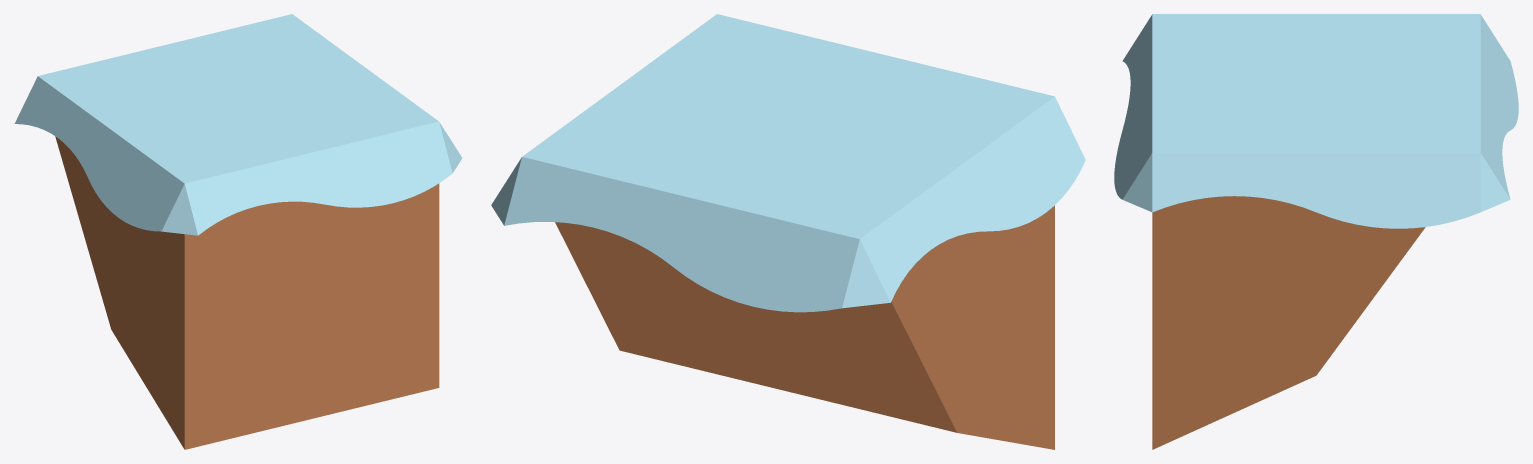
The model's file is blockSnowCliff.glb.
3 renders of one model, left to right at view 1: azimuth 30°, elevation 25°; view 2: azimuth 150°, elevation 25°; view 3: azimuth 270°, elevation 25°, orthographic. The views are drawn at different scales.
Visible parts, largest first — view 1: blockSnowCliff; view 2: blockSnowCliff; view 3: blockSnowCliff.
Boxes of the visible parts, box(x1,y1,x2,y2) form: blockSnowCliff: box(14, 14, 462, 449); blockSnowCliff: box(491, 14, 1085, 449); blockSnowCliff: box(1114, 14, 1518, 449).
Bounding box in the file's own units: 1.23 × 1 × 1.23.
